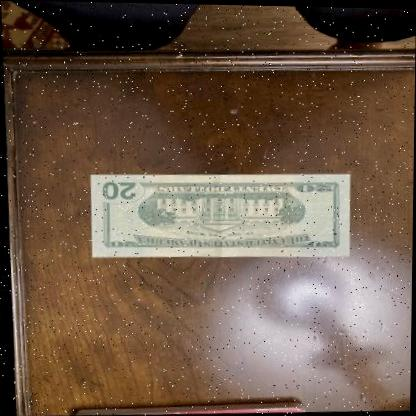twenty-back: (85, 166, 351, 265)
